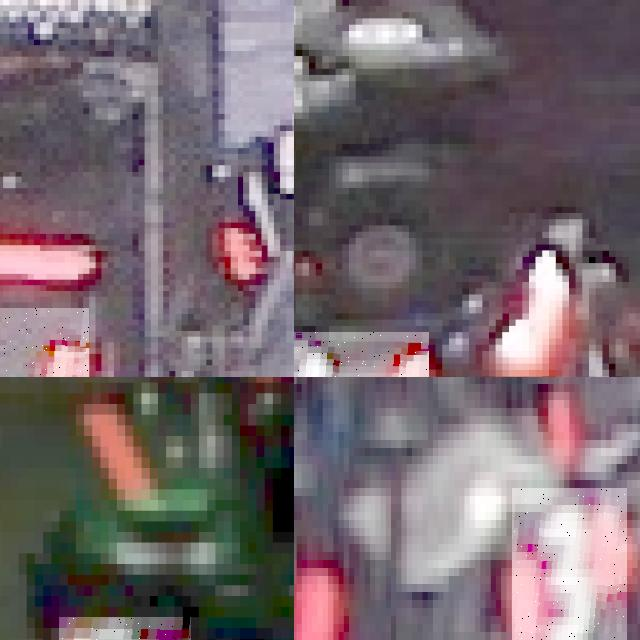R1: (0, 308, 89, 377), (294, 332, 429, 377)
R3: (511, 488, 627, 640), (294, 520, 338, 640)
Rs: (59, 617, 190, 640)
